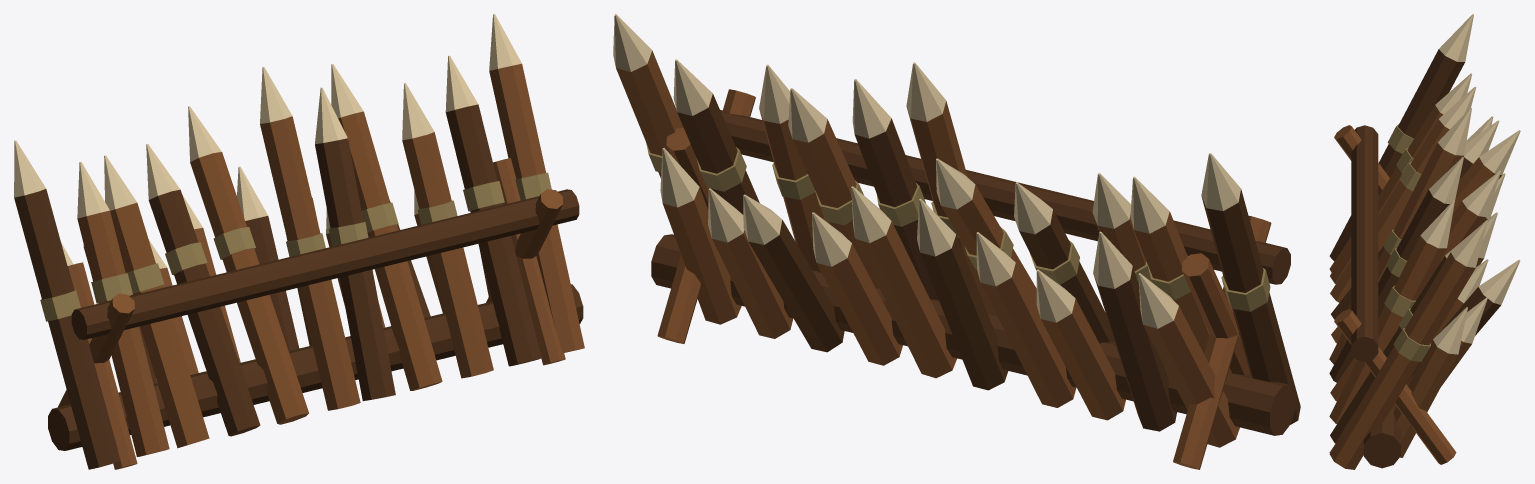
The model's file is zk-spikewall.glb.
3 views of the same model, side by side, from view 1: azimuth 30°, elevation 25°; view 2: azimuth 150°, elevation 25°; view 3: azimuth 270°, elevation 25° (orthographic). The views are drawn at different scales.
Parts seen in each view (by area): view 1: spikewall; view 2: spikewall; view 3: spikewall.
Part boxes in pixels (bbox=[...]): spikewall: bbox=[14, 14, 584, 469]; spikewall: bbox=[613, 14, 1300, 469]; spikewall: bbox=[1329, 14, 1520, 469].
Bounding box in the file's own units: 2.42 × 1.33 × 0.8803.
